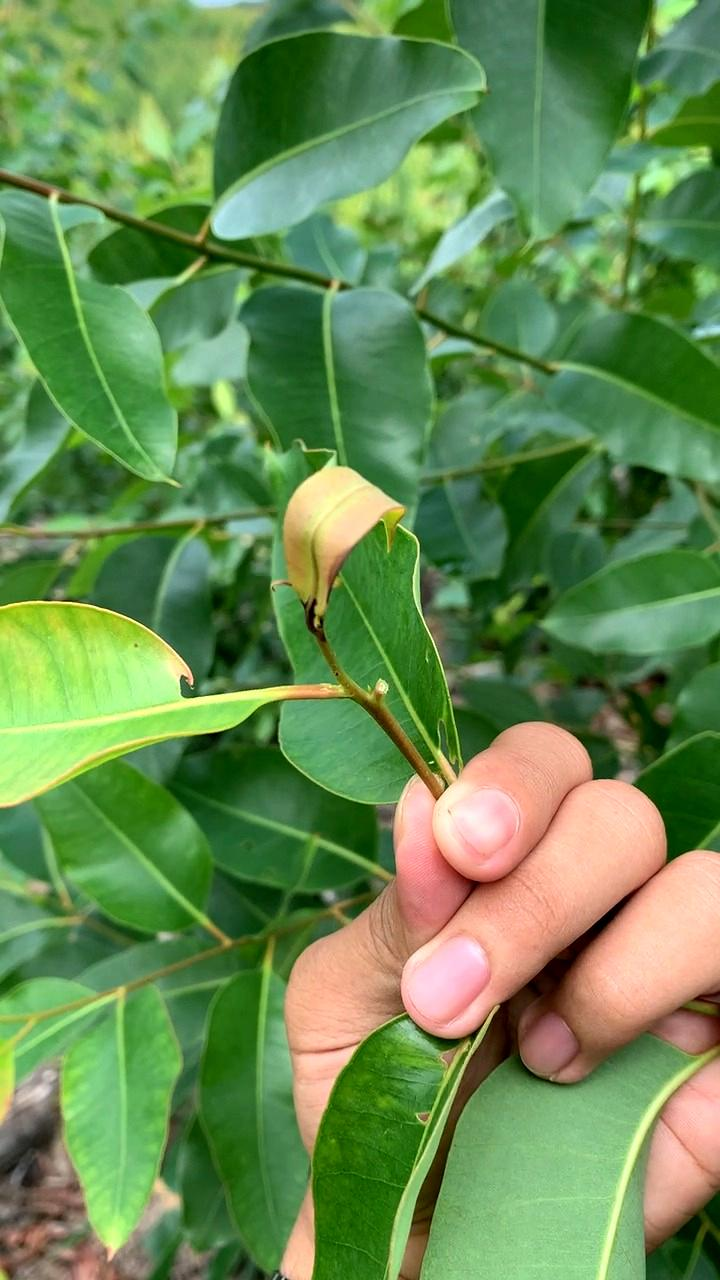Helopeltis-Withered Sprout: (283, 458, 393, 640)
